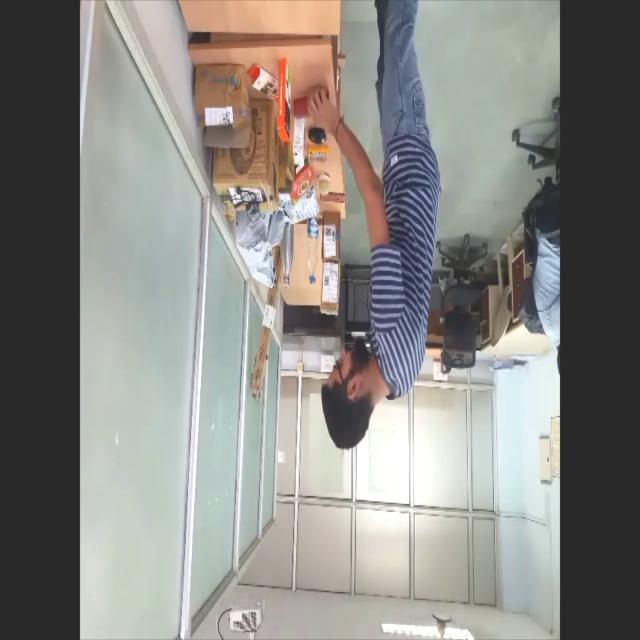normal: (308, 0, 441, 493)
